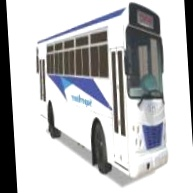bus: (28, 0, 172, 188)
